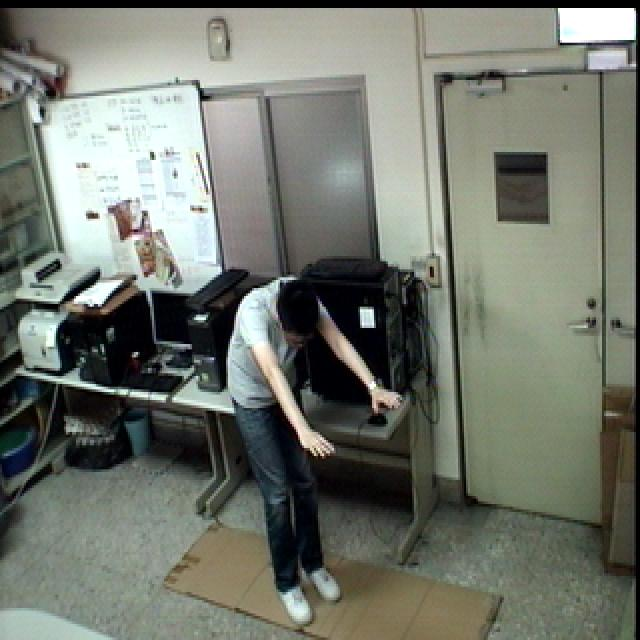bend: (222, 271, 406, 629)
